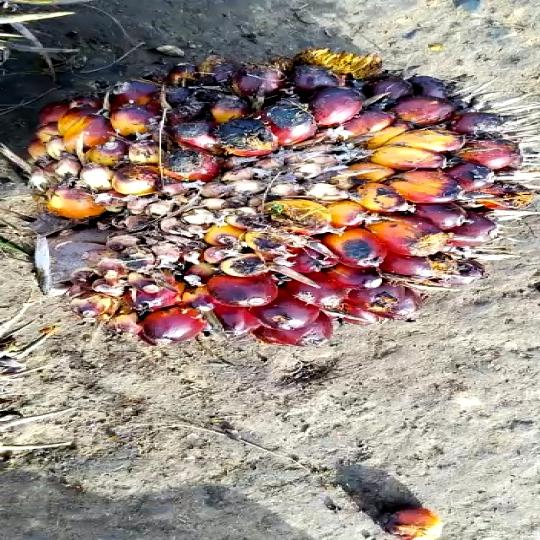masak: (25, 42, 540, 367)
